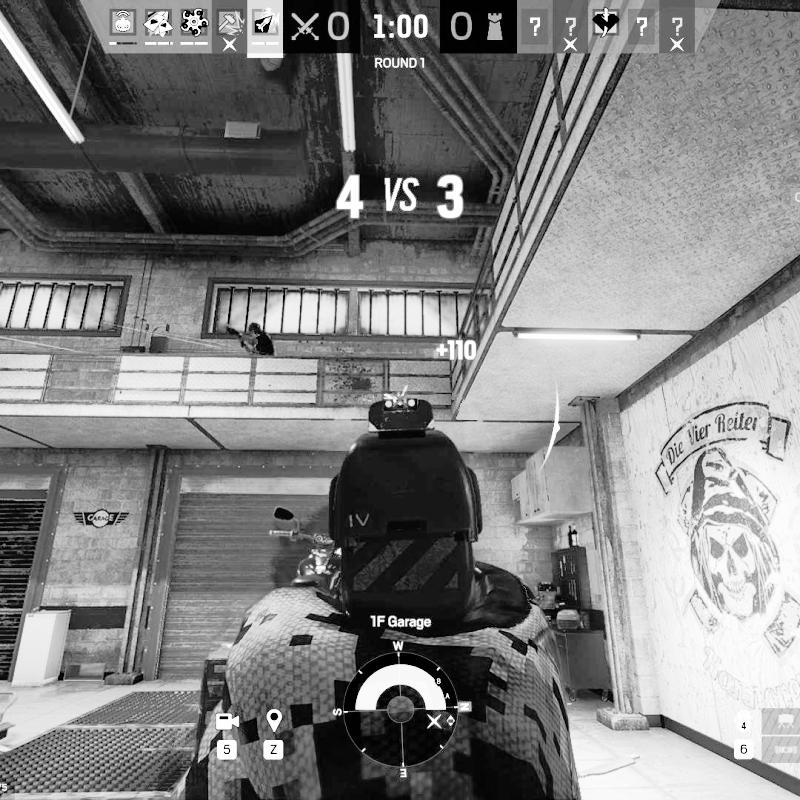Character: (224, 322, 276, 358)
Head: (248, 322, 262, 337)
